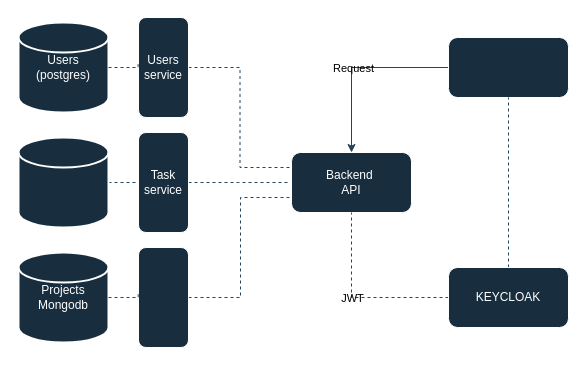
The diagram is 586 pixels wide and 365 high, and some of its shapes have lost their labels. The shapes that lost their labels are listed below. From the top down, each one's centre as x and y in pixels, then its label:
pixel 508 67: Frontend
pixel 63 182: Tasks Mongodb
pixel 163 297: Projects Service
